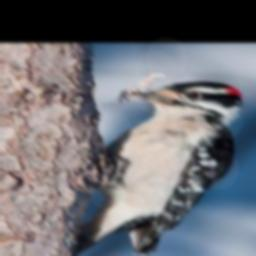Woodpecker: (78, 80, 244, 255)
